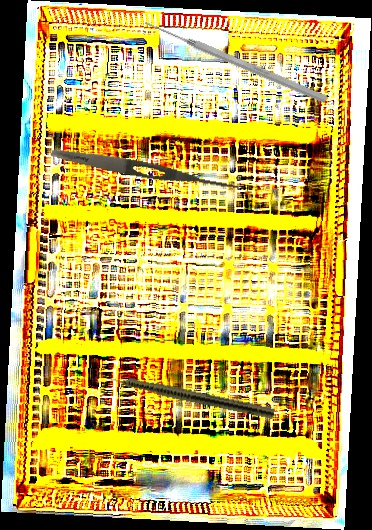Dressing Forceps: (49, 144, 241, 195)
Handpiece: (92, 368, 276, 420)
Pusher: (142, 16, 329, 106)
